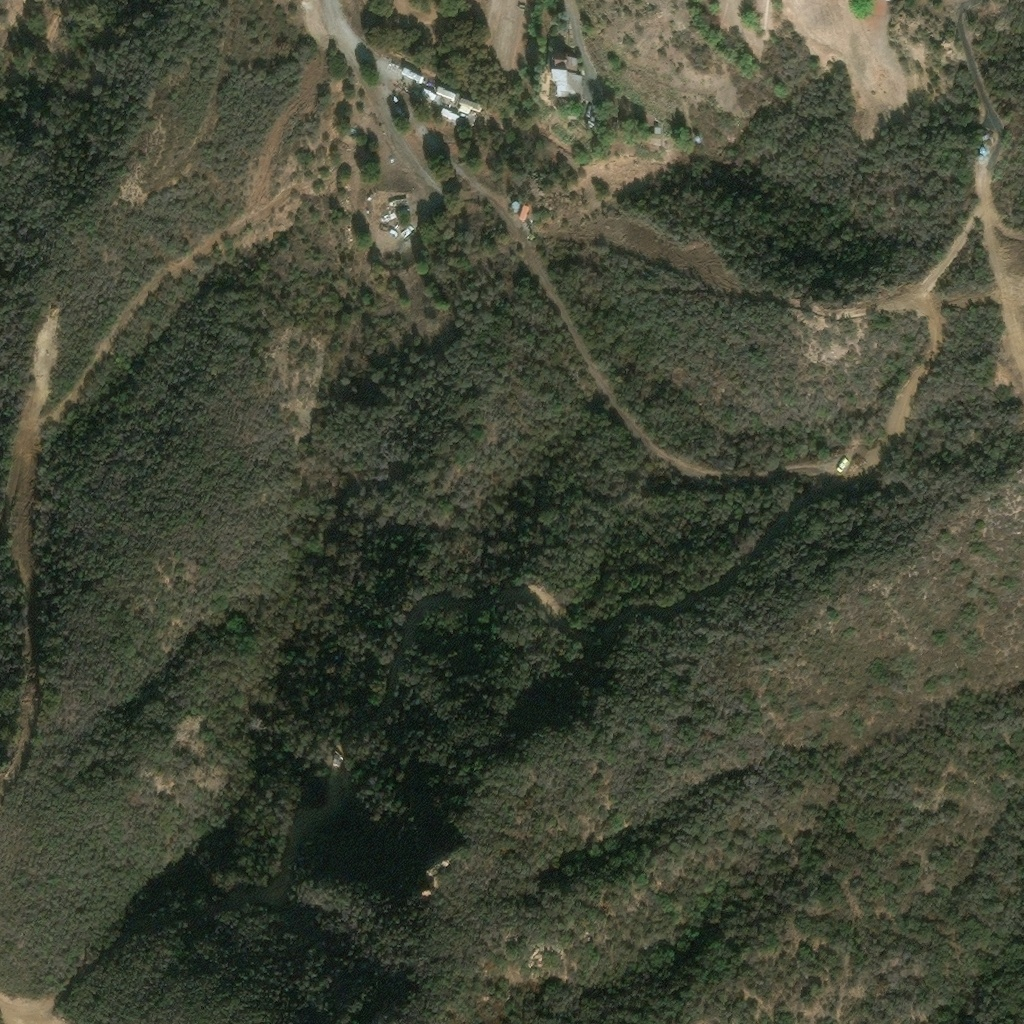0 no-damage: (549, 54, 584, 103), (400, 67, 425, 85), (459, 98, 483, 115), (439, 106, 462, 123), (436, 86, 457, 103), (420, 88, 438, 102), (519, 205, 530, 222), (691, 134, 700, 144), (511, 203, 520, 212)
